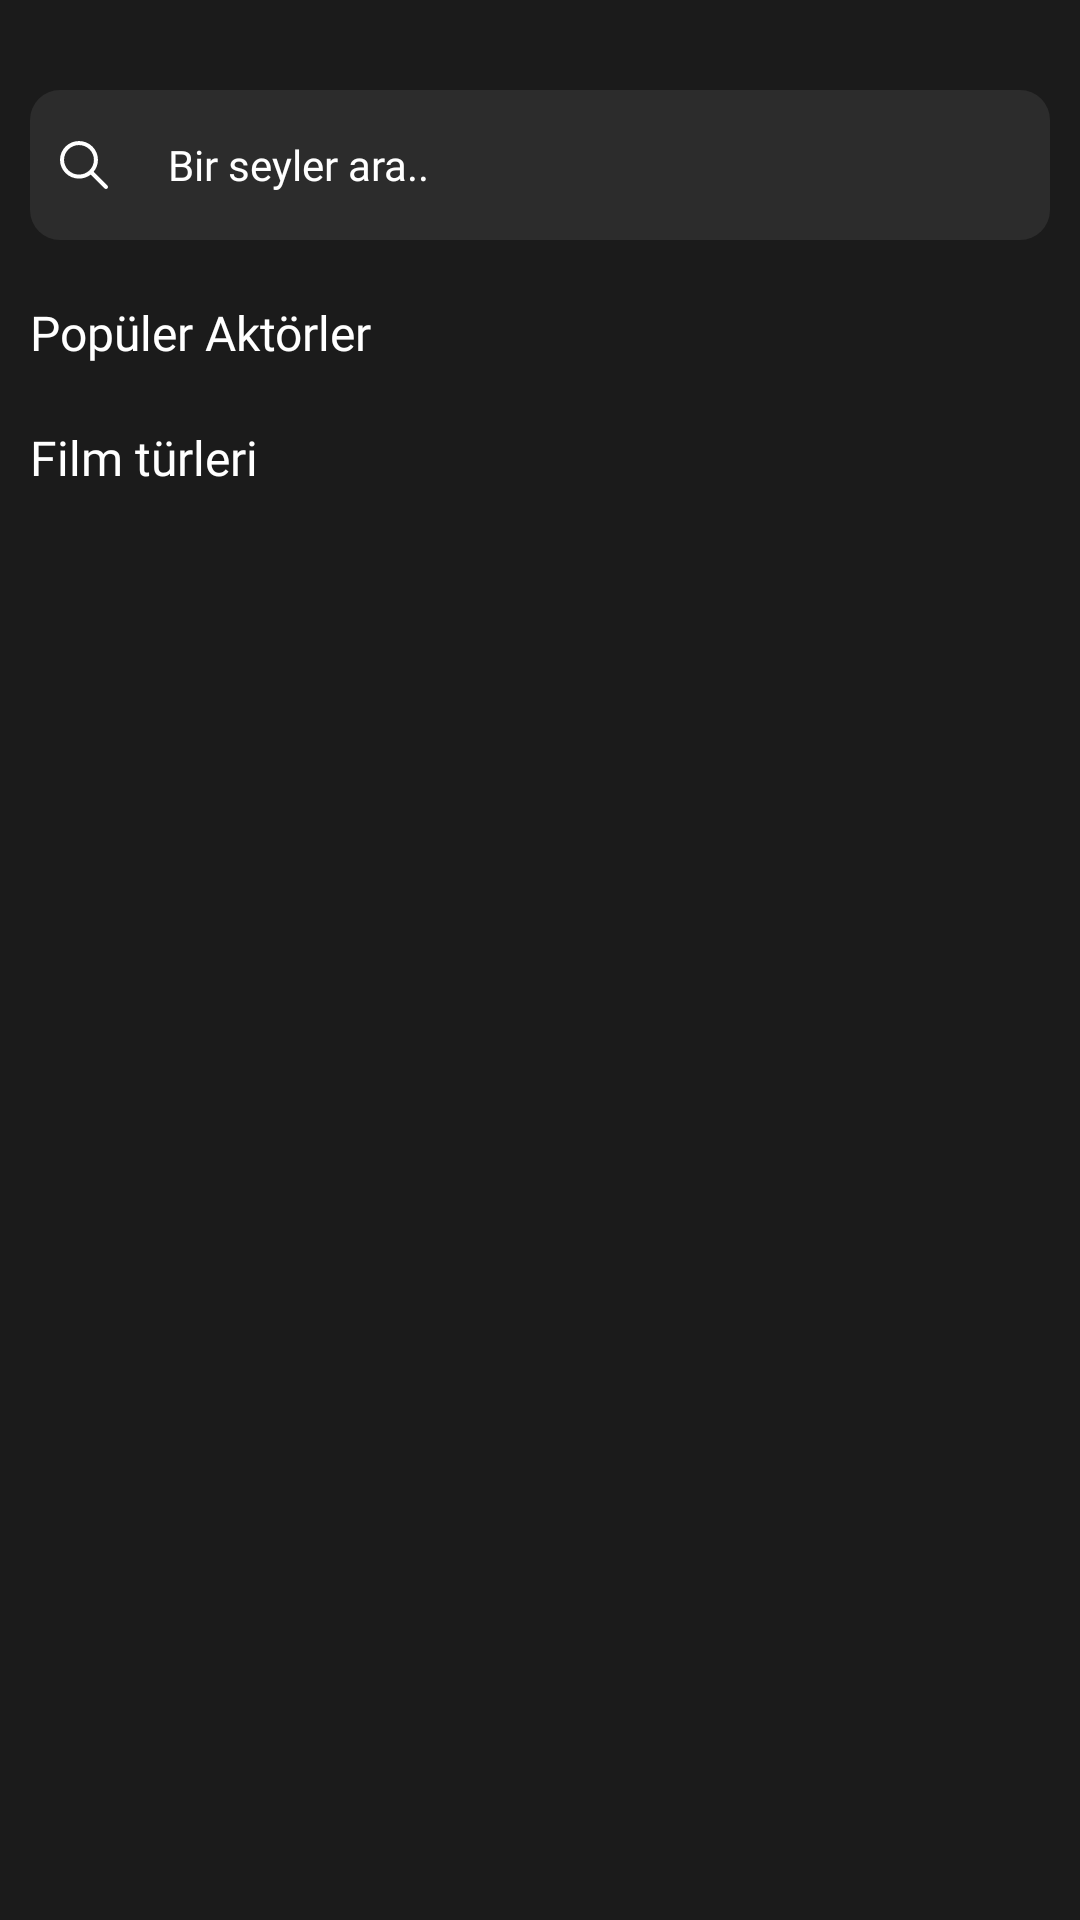

Named icons in this screenshot (1080 x 1920) and their centers, [x,y]:
search: [84,165]
